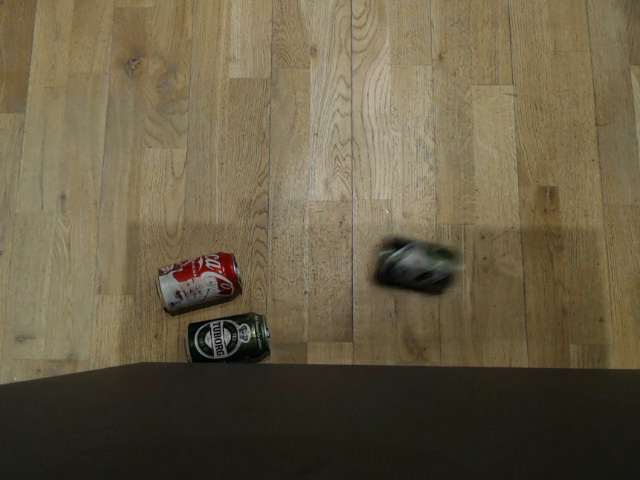beer: (369, 230, 468, 299), (178, 313, 267, 365)
cola: (150, 246, 242, 308)
